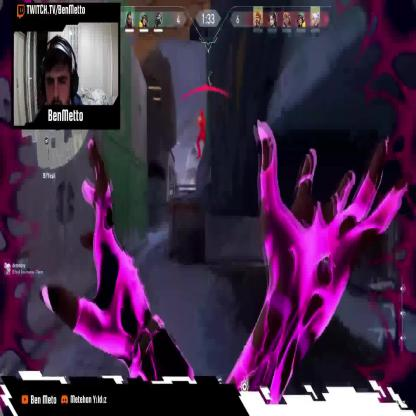enemy: (196, 108, 209, 159)
enemy_head: (200, 109, 204, 117)
